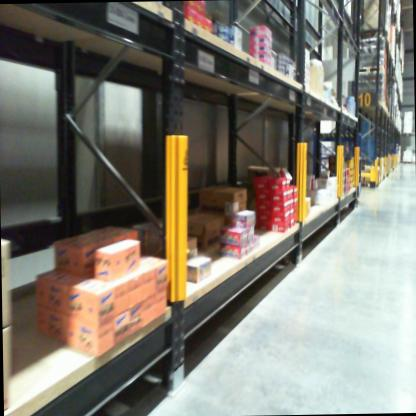pallet: (354, 24, 392, 46)
